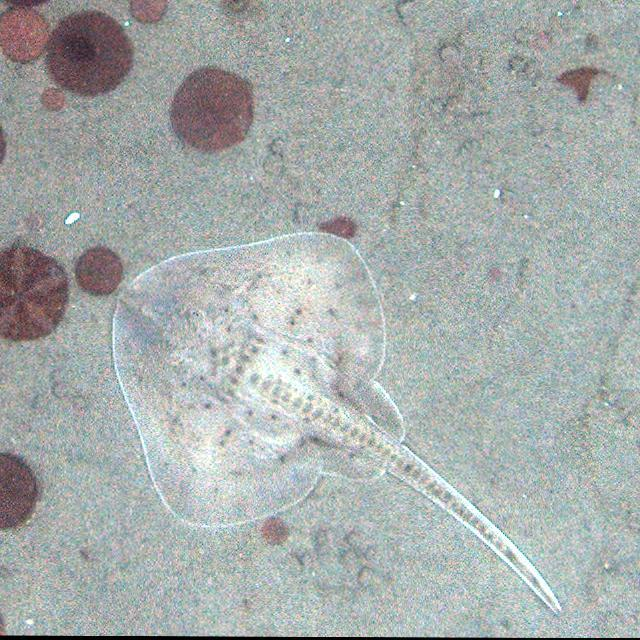skate: (106, 226, 565, 616)
